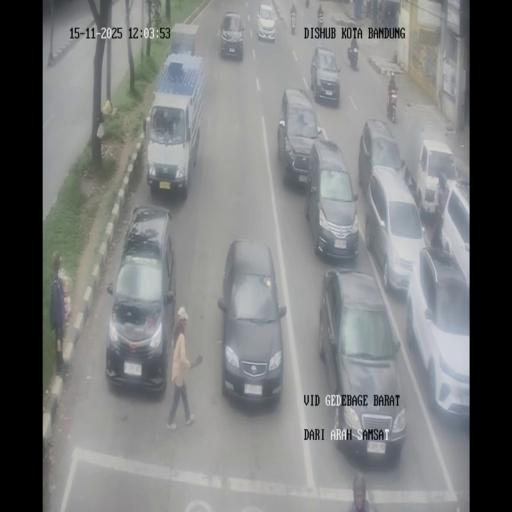car: (322, 269, 406, 461), (105, 204, 177, 390), (406, 243, 469, 424), (218, 240, 286, 407), (366, 166, 425, 294), (306, 138, 359, 262), (278, 88, 321, 186), (414, 139, 456, 218), (310, 46, 340, 106), (218, 10, 244, 60), (257, 3, 277, 42)
motorcycle: (386, 80, 398, 122), (348, 44, 359, 70), (364, 1, 372, 18), (375, 0, 382, 19), (384, 8, 392, 23), (291, 12, 296, 33), (318, 9, 324, 25), (291, 0, 297, 13), (305, 0, 310, 9)
truck: (146, 44, 206, 196)
